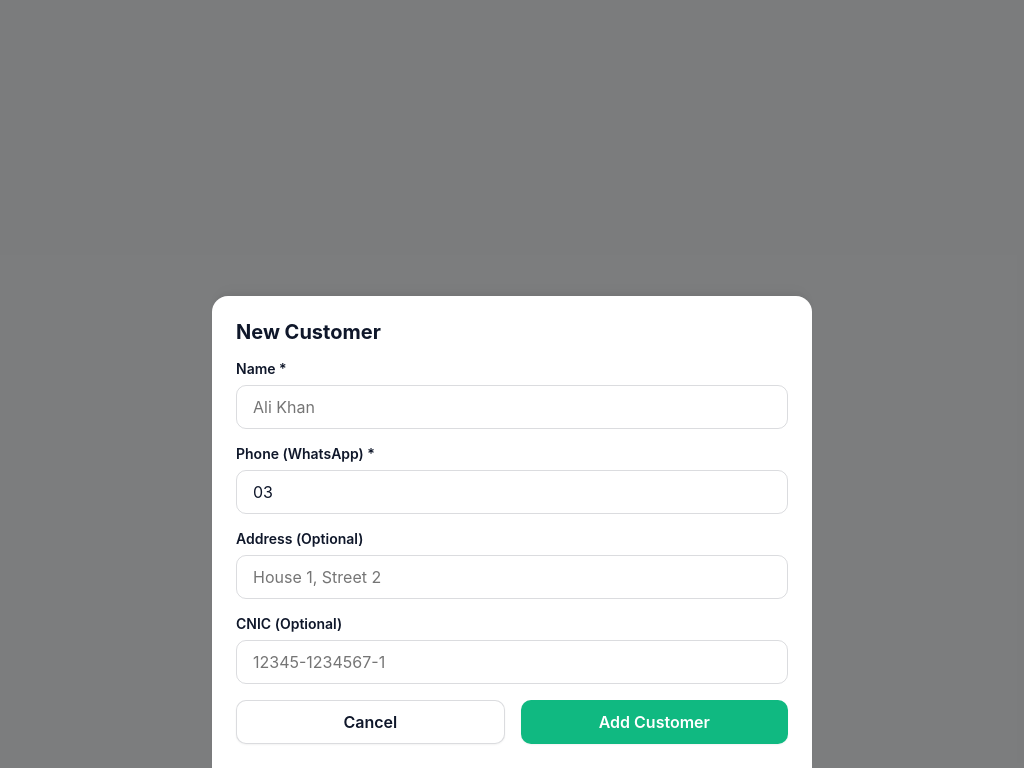
Test: NewCustomerForm (CustomerForm) › Phone sanitization › strips non-digit characters from phone
The width and height of the screenshot is (1024, 768).
Replace the text in the field labelled "Phone (WhatsApp) *" with "03-00-1234567": coordinates (512, 492) [236,470,788,514]
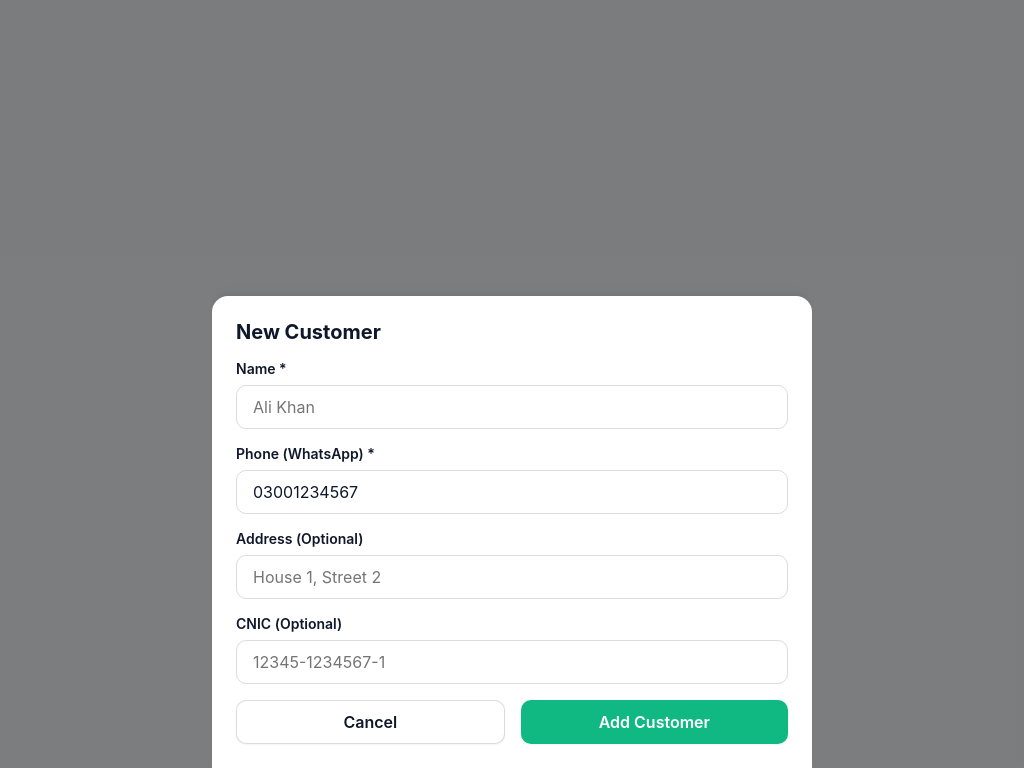
Now the field labelled "Phone (WhatsApp) *" holds "03001234567", box [236,470,788,514]
